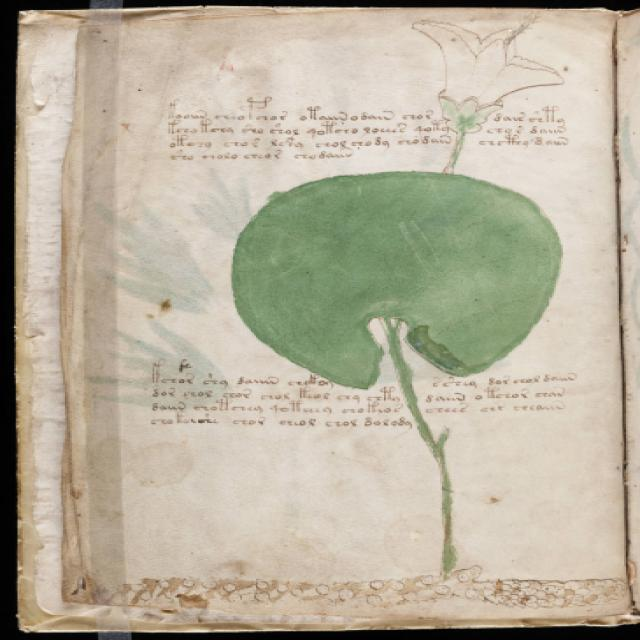plant: (207, 8, 581, 595)
